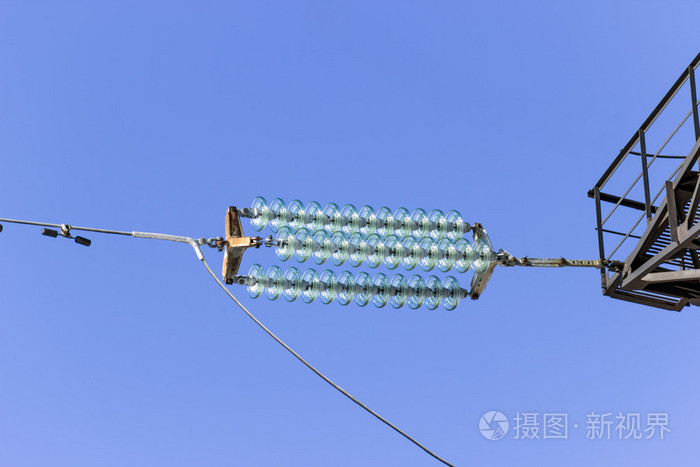insulator: (270, 225, 491, 275), (247, 194, 465, 243), (242, 264, 460, 311)
